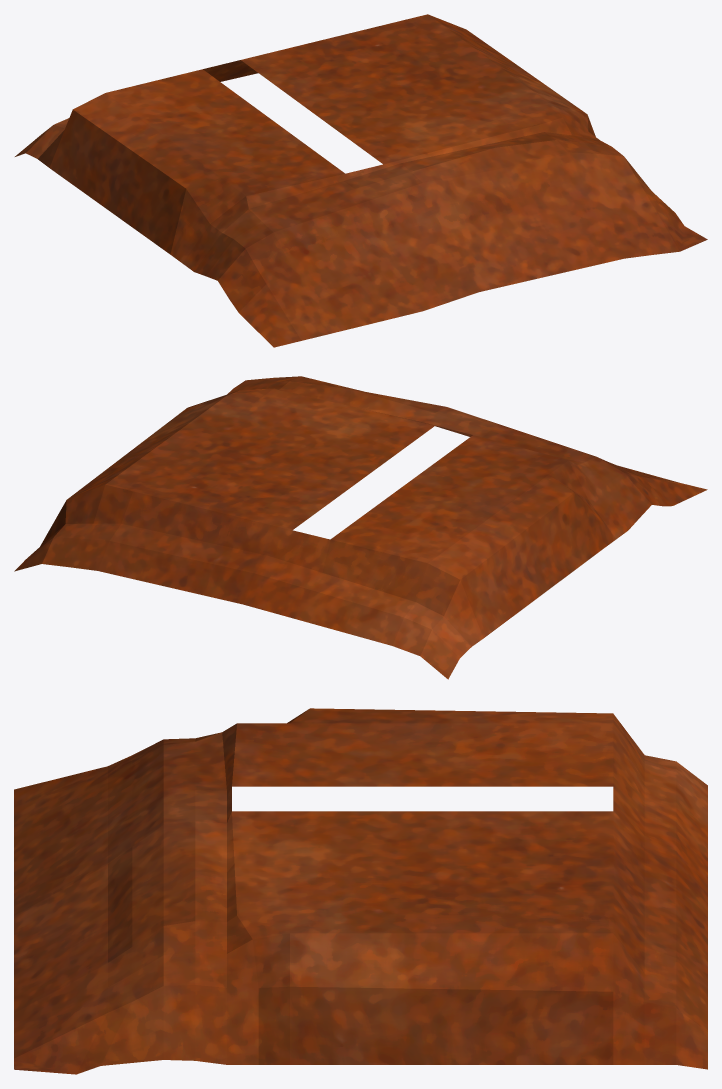
Rendered from Moutain_01.fbx.
3 views of the same model, one above another, from view 1: azimuth 30°, elevation 25°; view 2: azimuth 150°, elevation 25°; view 3: azimuth 270°, elevation 25° (orthographic). The views are drawn at different scales.
Visible parts, largest first — view 1: Moutain_01; view 2: Moutain_01; view 3: Moutain_01.
Boxes of the visible parts, box(x1,y1,x2,y2) form: Moutain_01: box(15, 14, 707, 347); Moutain_01: box(14, 376, 707, 679); Moutain_01: box(14, 708, 707, 1074).
Size of the model in its own units: 5736 by 1045 by 5944.
